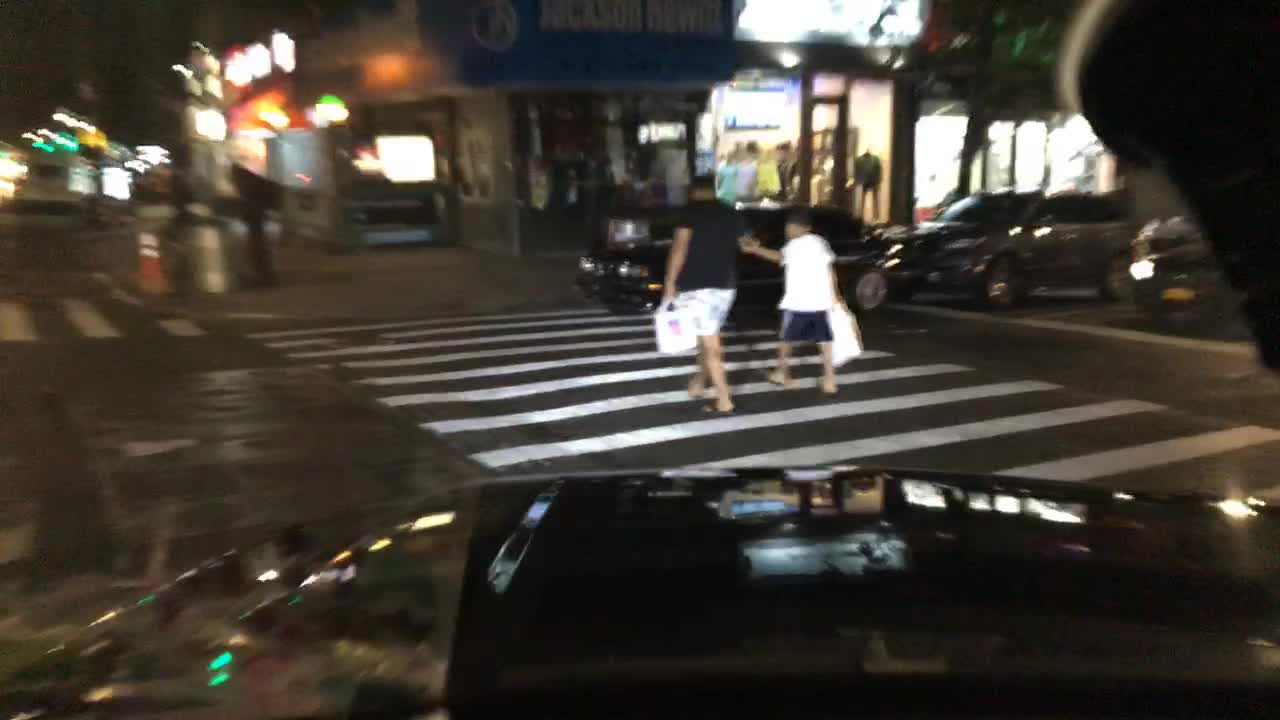car: (577, 201, 897, 327), (887, 185, 1155, 311), (1132, 207, 1270, 323)
person: (747, 181, 858, 399), (653, 170, 744, 419)
